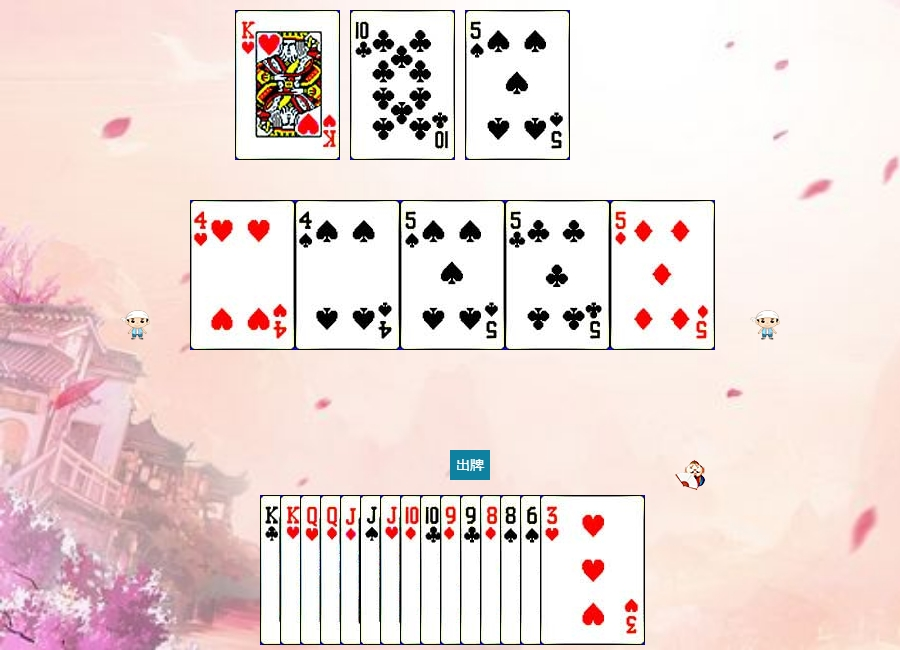10~1: (400, 495, 505, 645)
10~2: (350, 10, 455, 160), (420, 495, 525, 645)
11~1: (340, 495, 445, 645)
11~3: (380, 495, 485, 645)
11~4: (360, 495, 465, 645)
12~1: (320, 495, 425, 645)
12~3: (300, 495, 405, 645)
13~2: (260, 495, 365, 645)
13~3: (235, 10, 340, 160), (280, 495, 385, 645)
3~3: (540, 495, 645, 645)
4~3: (190, 200, 295, 350)
4~4: (295, 200, 400, 350)
5~1: (610, 200, 715, 350)
5~2: (505, 200, 610, 350)
5~4: (465, 10, 570, 160), (400, 200, 505, 350)
6~4: (520, 495, 625, 645)
8~1: (480, 495, 585, 645)
8~4: (500, 495, 605, 645)
9~1: (440, 495, 545, 645)
9~2: (460, 495, 565, 645)
